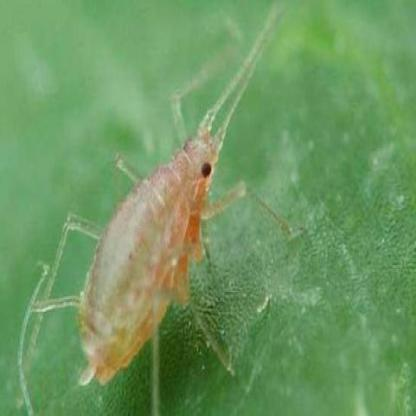aphid: (18, 6, 293, 416)
